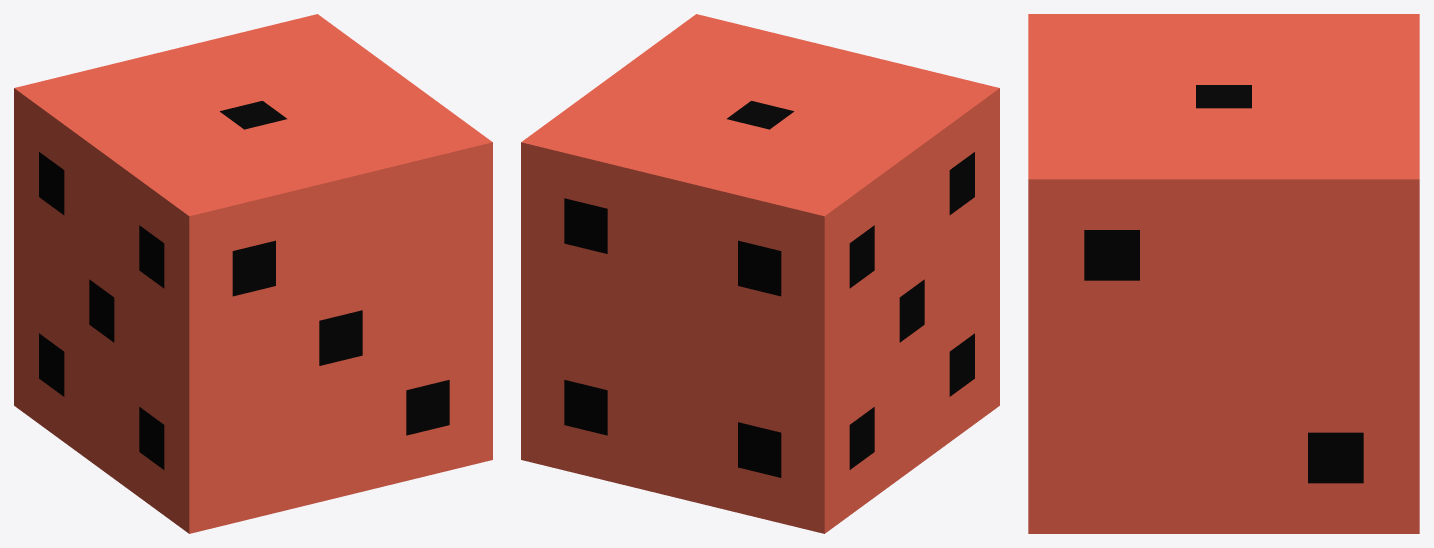
Rendered from dice.glb.
The picture shows the model from 3 angles, left to right: view 1: azimuth 30°, elevation 25°; view 2: azimuth 150°, elevation 25°; view 3: azimuth 270°, elevation 25°; orthographic projection. The views are drawn at different scales.
Visible parts, largest first — view 1: Cube.001; view 2: Cube.001; view 3: Cube.001.
Part boxes in pixels (x1,y1,x2,y2): Cube.001: (14,14,492,533); Cube.001: (521,14,999,533); Cube.001: (1028,14,1419,533).
Size of the model in its own units: 1 by 1 by 1.
